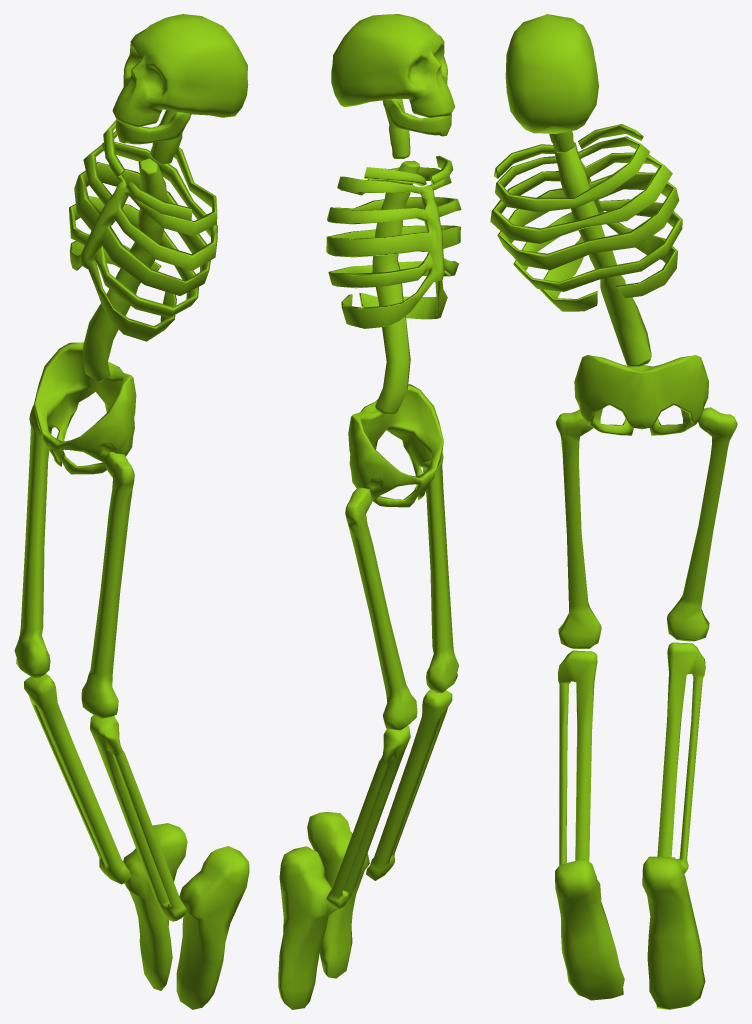
Rendered from Gallows_03C_Lod0.fbx.
3 views of the same model, side by side, from view 1: azimuth 30°, elevation 25°; view 2: azimuth 150°, elevation 25°; view 3: azimuth 270°, elevation 25° (orthographic). The views are drawn at different scales.
Parts seen in each view (by area): view 1: Gallows_03C_Lod0; view 2: Gallows_03C_Lod0; view 3: Gallows_03C_Lod0.
Part boxes in pixels (x1,y1,x2,y2): Gallows_03C_Lod0: (14, 14, 249, 1009); Gallows_03C_Lod0: (278, 14, 461, 1009); Gallows_03C_Lod0: (490, 14, 737, 1009).
Bounding box in the file's own units: 26.76 × 157 × 36.06.
